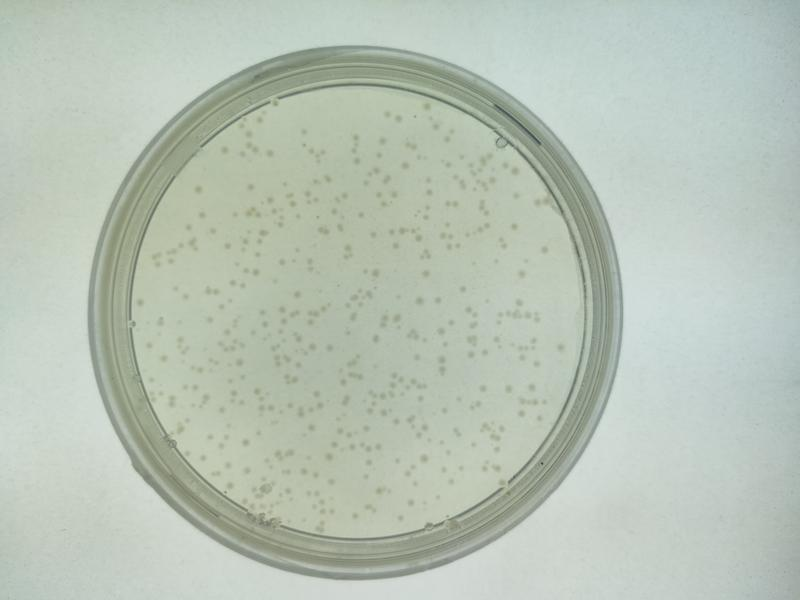colony: (412, 293, 430, 311), (235, 431, 253, 449), (188, 182, 209, 197), (513, 265, 529, 282), (388, 237, 404, 254), (303, 418, 321, 433), (243, 179, 259, 195), (368, 330, 384, 346), (201, 312, 217, 328), (397, 156, 412, 173), (432, 292, 447, 309), (506, 220, 523, 235), (416, 448, 431, 465), (418, 267, 436, 281), (348, 154, 366, 168), (498, 382, 517, 395), (455, 281, 470, 297), (476, 381, 491, 397), (524, 377, 539, 393), (323, 474, 339, 489), (261, 145, 278, 159), (376, 132, 391, 147), (193, 207, 209, 221), (322, 340, 336, 356), (291, 284, 305, 300), (296, 123, 313, 136), (537, 241, 551, 256), (353, 208, 367, 223), (238, 462, 253, 476), (322, 449, 337, 463), (274, 255, 290, 268), (177, 291, 192, 304), (308, 386, 324, 398), (224, 276, 238, 289), (366, 229, 378, 241)
